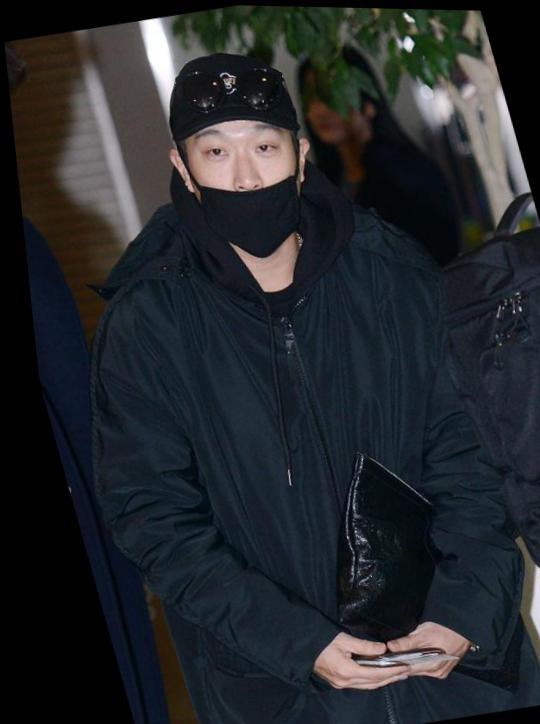NONE: (6, 68, 31, 192)
WRONG: (160, 100, 323, 258)
